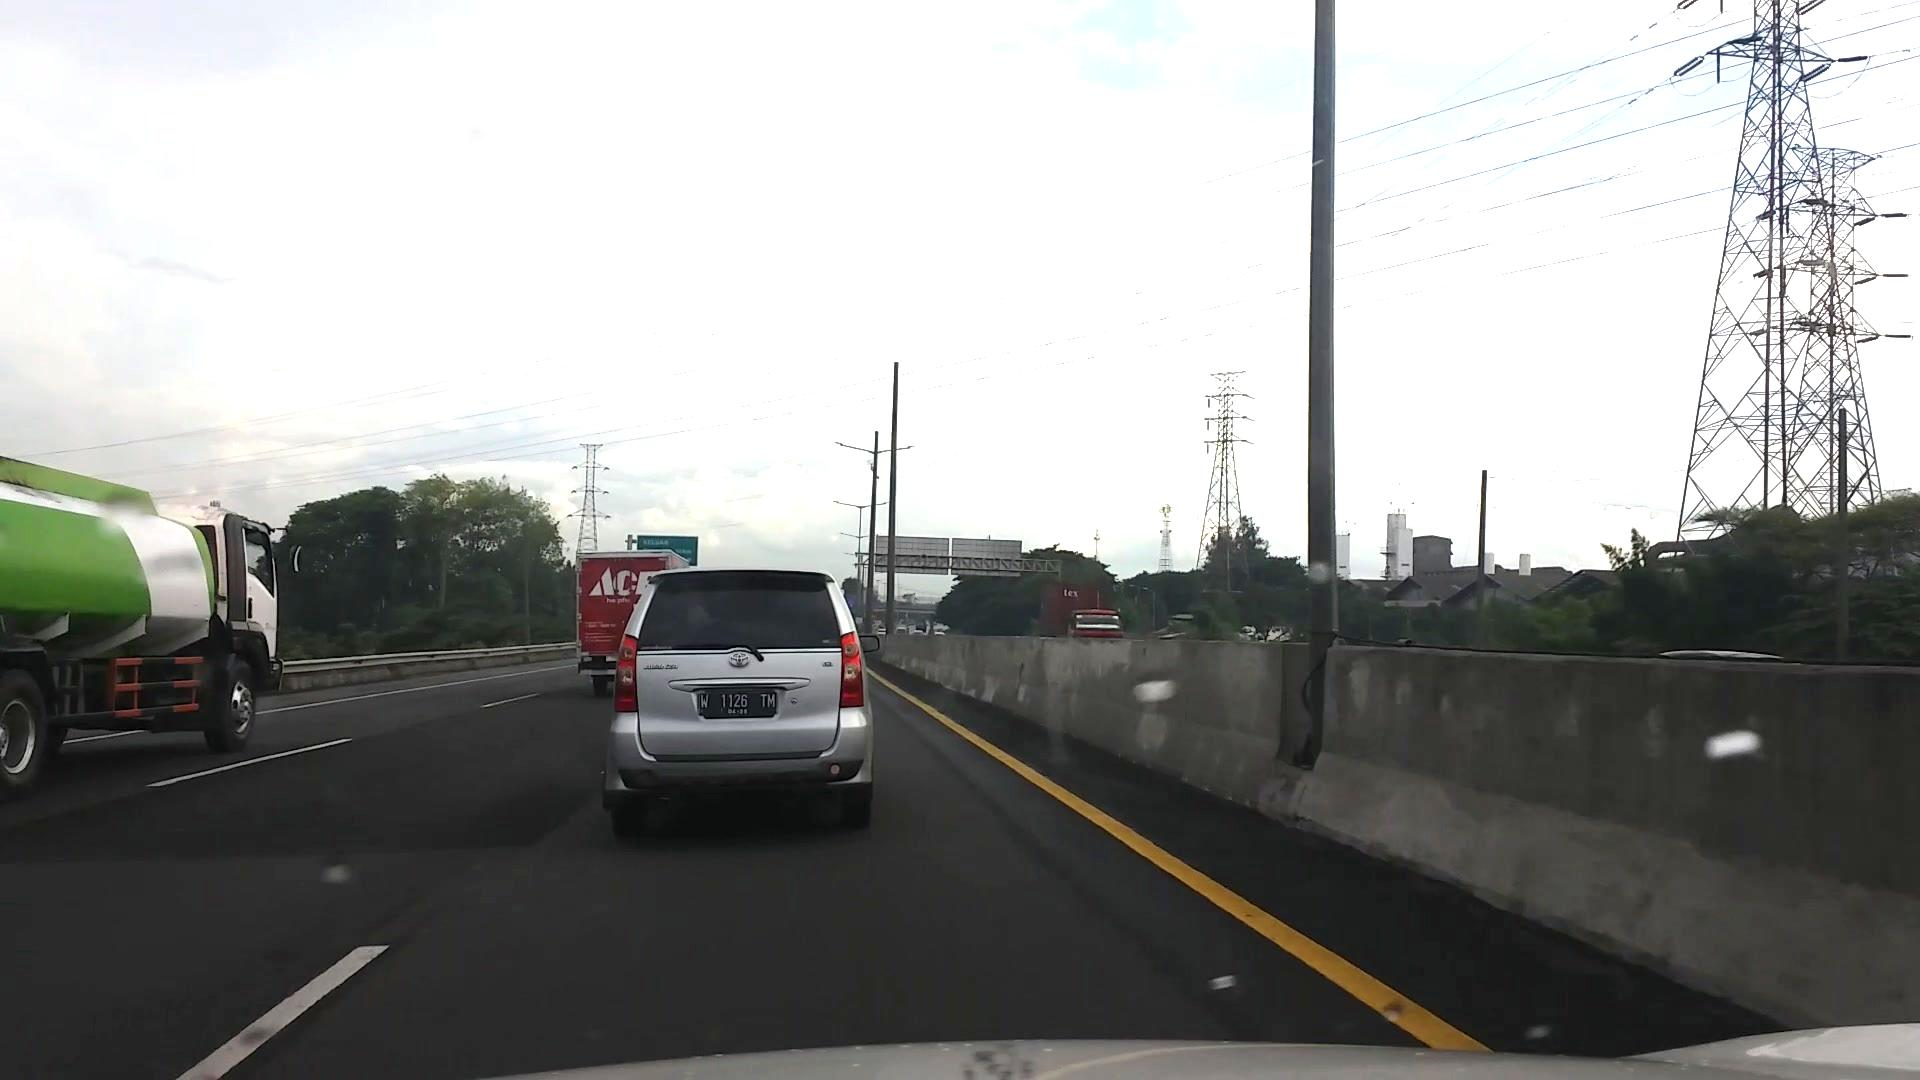plate_positive: (698, 692, 775, 717)
